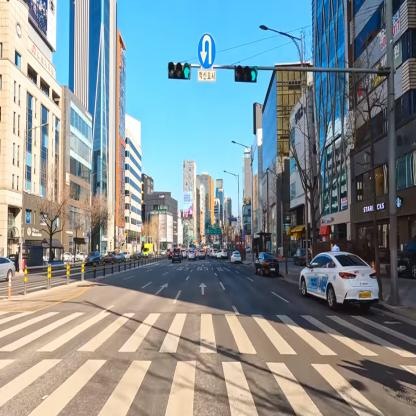Green: (168, 58, 191, 80), (235, 65, 258, 83)
